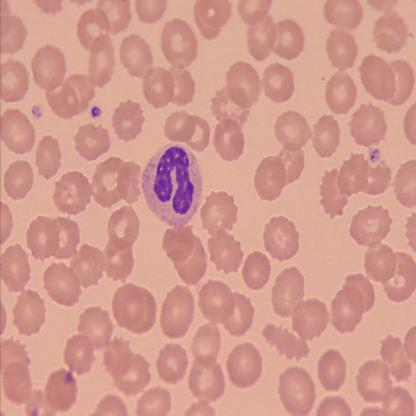Band Neutrophil: (138, 138, 204, 230)
